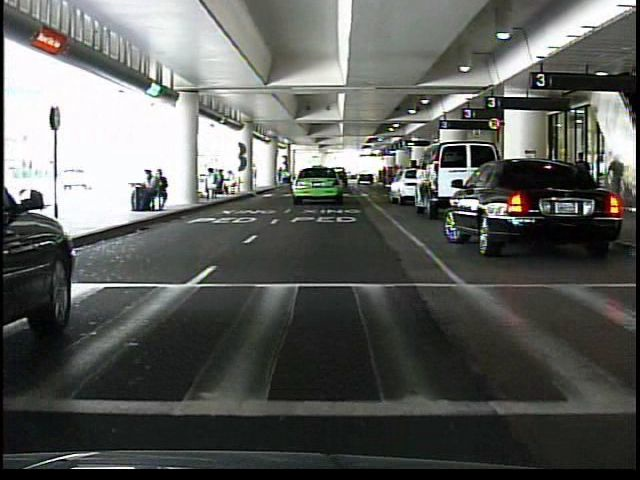person: (570, 148, 594, 211)
